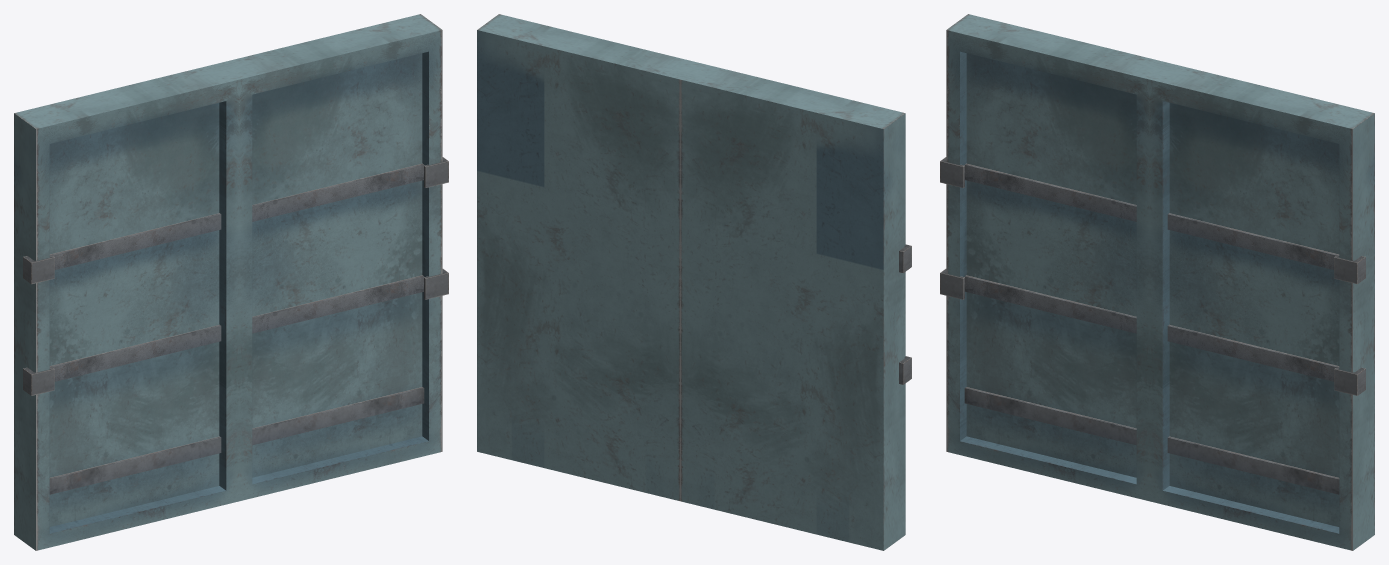
The model's file is Irondoor.fbx.
3 renders of one model, left to right at view 1: azimuth 30°, elevation 25°; view 2: azimuth 150°, elevation 25°; view 3: azimuth 330°, elevation 25°, orthographic.
Parts seen in each view (by area): view 1: Irondoor; view 2: Irondoor; view 3: Irondoor.
Boxes of the visible parts, <box> form: Irondoor: <box>14,14,448,550</box>; Irondoor: <box>477,14,911,550</box>; Irondoor: <box>940,14,1374,550</box>.
Size of the model in its own units: 172 by 166 by 16.2.
1 material, 1 textured.
